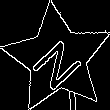N_NE: (25, 27, 89, 90)
